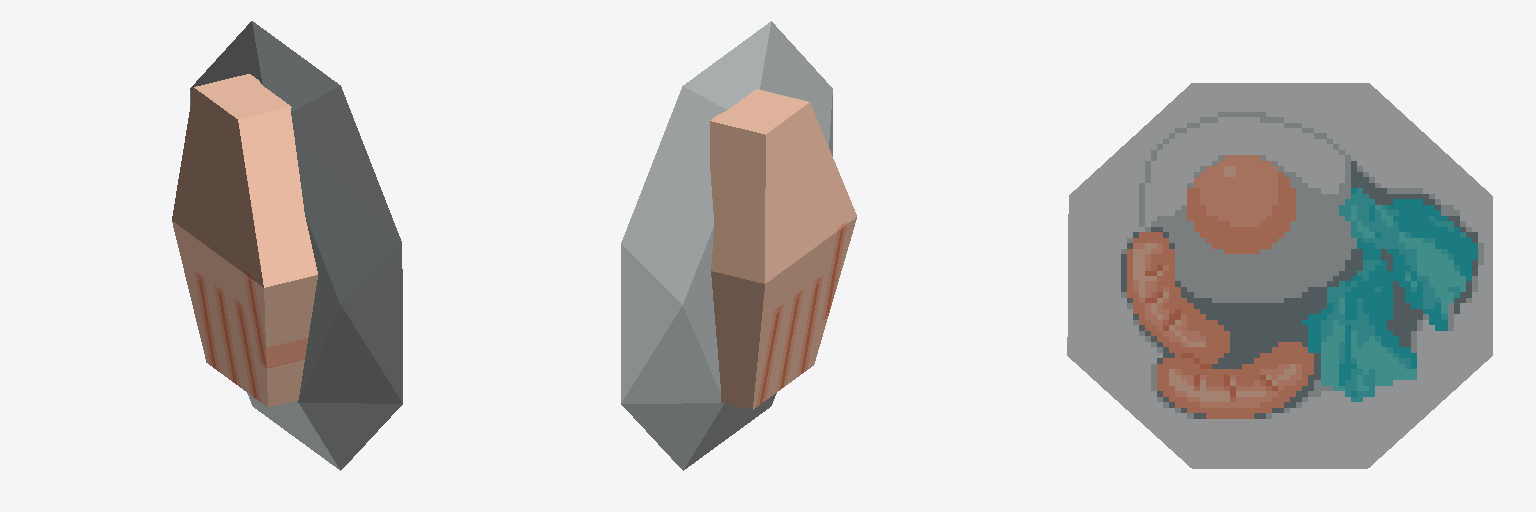
The picture shows the model from 3 angles: view 1: azimuth 30°, elevation 25°; view 2: azimuth 150°, elevation 25°; view 3: azimuth 270°, elevation 25°; orthographic projection.
Visible parts, largest first — view 1: 09_RIGHT_HAND_PLATE; view 2: 09_RIGHT_HAND_PLATE; view 3: 09_RIGHT_HAND_PLATE.
Part boxes in pixels (left/top/right/bottom): 09_RIGHT_HAND_PLATE: left=172, top=21, right=402, bottom=470; 09_RIGHT_HAND_PLATE: left=621, top=21, right=856, bottom=470; 09_RIGHT_HAND_PLATE: left=1067, top=83, right=1492, bottom=468.
Size of the model in its own units: 0.0719 by 0.325 by 0.325.
1 materials, 1 textured.